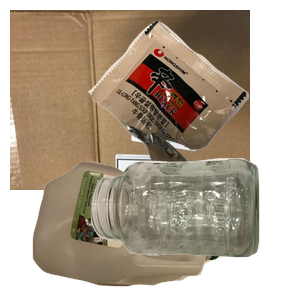cardboard: (10, 10, 250, 190)
glass: (88, 156, 300, 300)
plastic: (30, 159, 247, 300)
trash: (86, 18, 300, 194)
